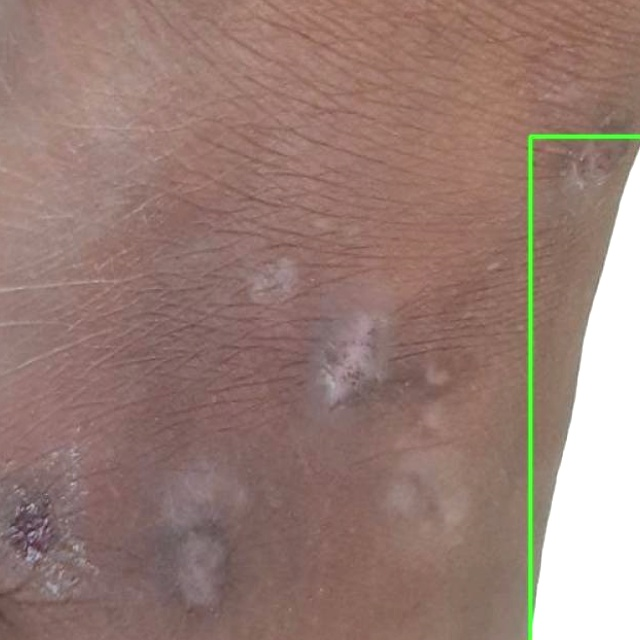Eczema: (530, 136, 639, 639)
